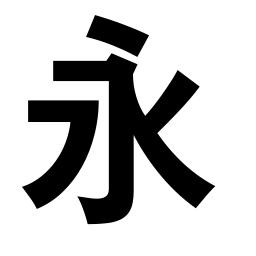D: (85, 13, 150, 49)
HSZ: (102, 57, 142, 93)
Hs: (51, 58, 92, 83)
Ne: (180, 173, 219, 210)
PNc: (135, 104, 165, 143)
PZe: (20, 177, 53, 212)
Ps: (168, 68, 201, 104)
SG: (76, 187, 137, 226)
Sm: (106, 147, 137, 177)
TPZ: (65, 97, 102, 148)
Ts: (26, 97, 49, 126)
